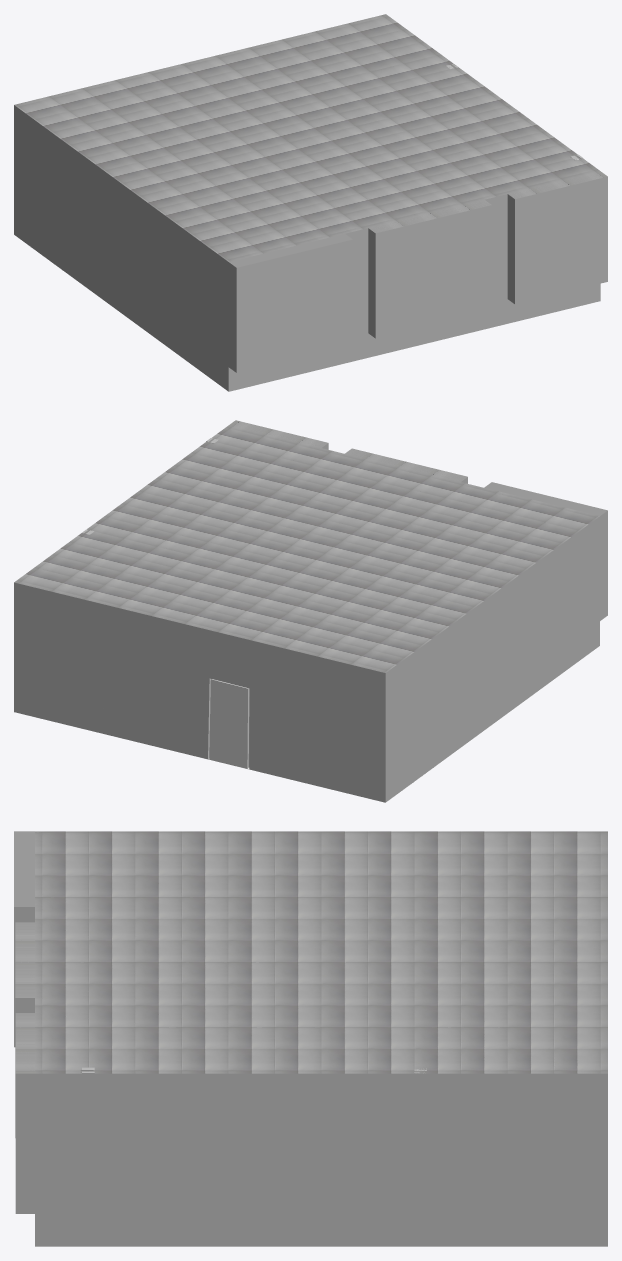
The model's file is room_w_chairs_tables.fbx.
3 renders of one model, top to bottom at view 1: azimuth 30°, elevation 25°; view 2: azimuth 150°, elevation 25°; view 3: azimuth 270°, elevation 25°, orthographic. The views are drawn at different scales.
Parts seen in each view (by area): view 1: Cube; view 2: Cube; view 3: Cube, Cube.003, Cube.002, Cube.001.
Part boxes in pixels (x1,y1,x2,y2): Cube: [14, 14, 607, 391]; Cube: [14, 420, 607, 802]; Cube: [14, 831, 607, 1246]; Cube.003: [81, 1067, 94, 1244]; Cube.002: [414, 1068, 426, 1245]; Cube.001: [248, 1073, 260, 1245].
Size of the model in its own units: 900 by 301 by 933.
